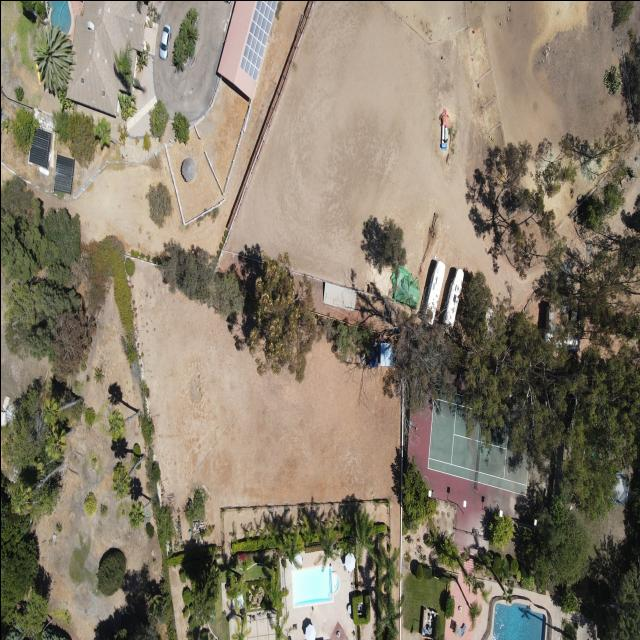solar-panels: (236, 0, 276, 82)
